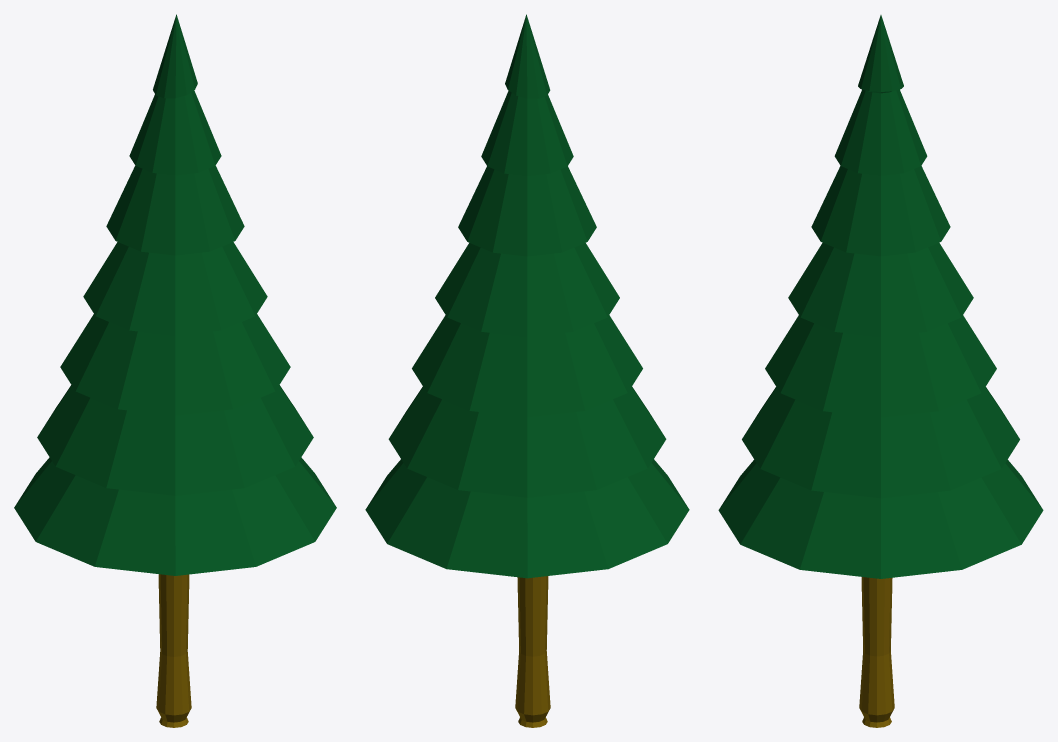
Rendered from triangle_tree.glb.
The picture shows the model from 3 angles, left to right: view 1: azimuth 30°, elevation 25°; view 2: azimuth 150°, elevation 25°; view 3: azimuth 270°, elevation 25°; orthographic projection.
Parts seen in each view (by area): view 1: TRIANGLE TREE.001_Material.031_0; view 2: TRIANGLE TREE.001_Material.031_0; view 3: TRIANGLE TREE.001_Material.031_0.
Part boxes in pixels (x1=…): TRIANGLE TREE.001_Material.031_0: x1=14, y1=14, x2=336, y2=727; TRIANGLE TREE.001_Material.031_0: x1=365, y1=14, x2=689, y2=727; TRIANGLE TREE.001_Material.031_0: x1=718, y1=15, x2=1043, y2=727.
Size of the model in its own units: 0.4619 by 1.11 by 0.4619.
Materials: 1 (1 with a texture image).
